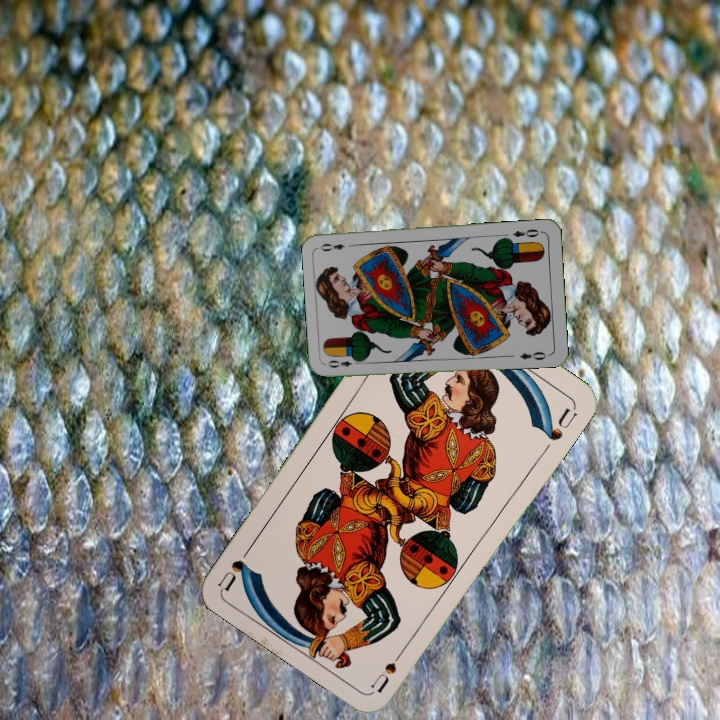EO: (324, 354, 364, 370), (509, 225, 545, 240)
SU: (366, 641, 410, 695)
